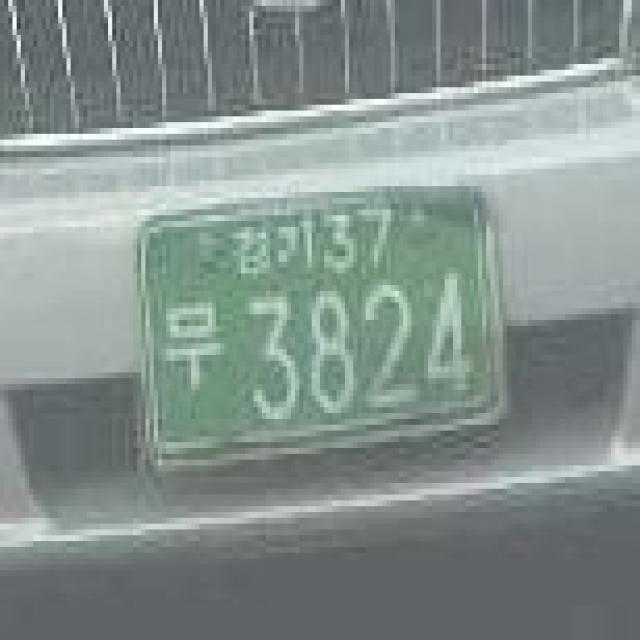illegal_plate: (123, 176, 520, 486)
